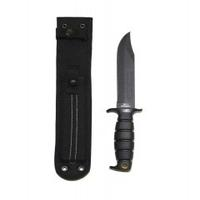knife: (105, 24, 151, 176)
